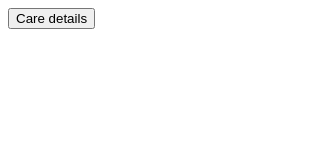
Scenario: Collapsible shows and hides its content
This screenshot has width=320, height=160.
Expected: the text "Wash cold." is not shown
What coordinates should you click on to do the following:
click the button "Care details"
I would click on:
 (52, 18)
Its box is [8, 8, 95, 29].
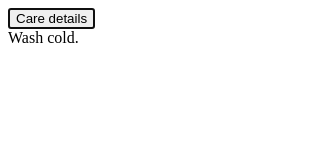
Expected: the text "Wash cold." is shown, [8, 29, 79, 46]
